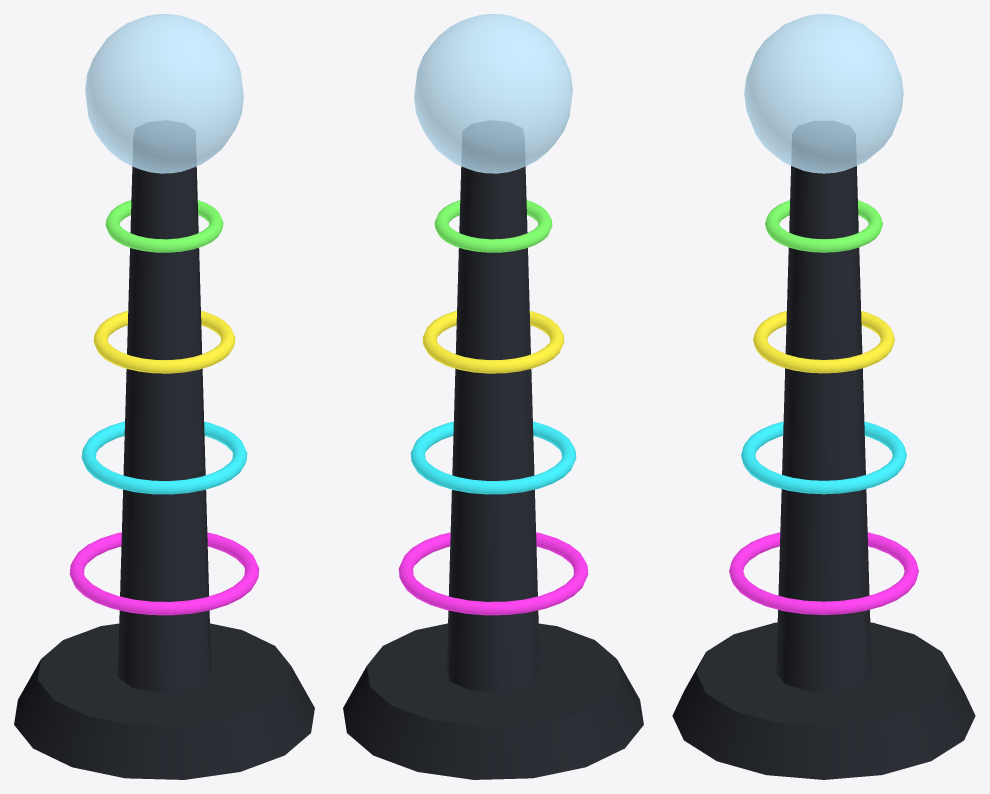
File: landmark_neontower.glb
The picture shows the model from 3 angles, left to right: view 1: azimuth 30°, elevation 25°; view 2: azimuth 150°, elevation 25°; view 3: azimuth 270°, elevation 25°; orthographic projection.
Visible parts, largest first — view 1: Landmark_neontower; view 2: Landmark_neontower; view 3: Landmark_neontower.
Part boxes in pixels (x1,y1,x2,y2): Landmark_neontower: (14,14,314,779); Landmark_neontower: (343,14,643,779); Landmark_neontower: (672,14,975,779).
Size of the model in its own units: 3.8 by 9.6 by 3.8.
